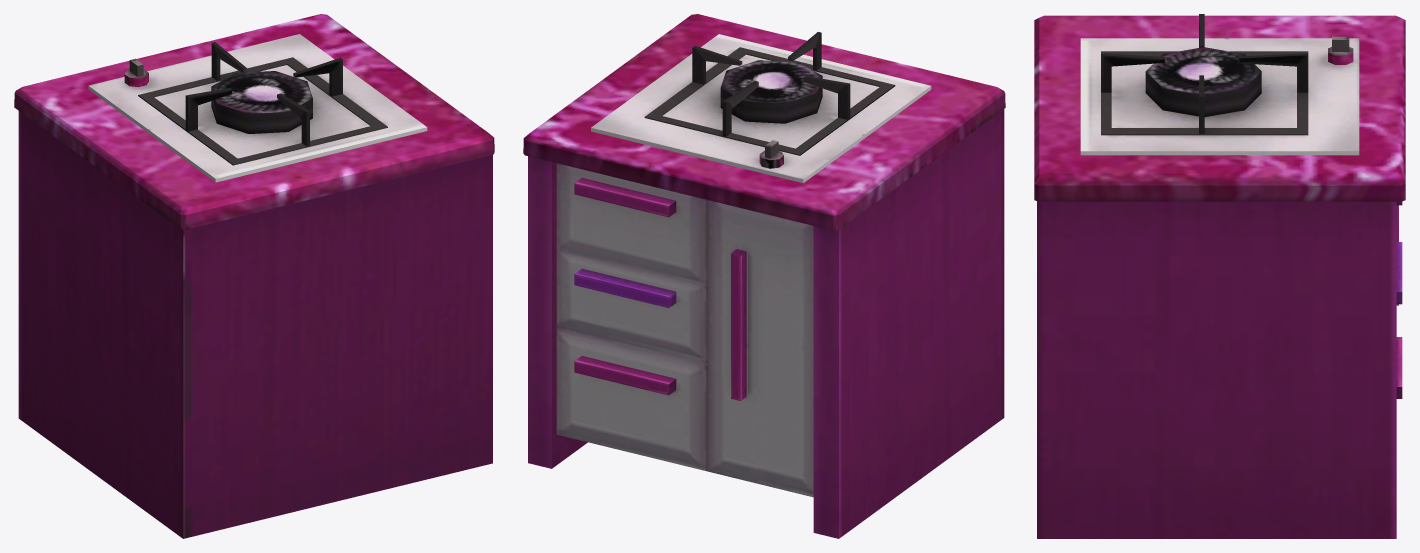
The model's file is furni_0200520_01.FBX.
3 renders of one model, left to right at view 1: azimuth 30°, elevation 25°; view 2: azimuth 150°, elevation 25°; view 3: azimuth 270°, elevation 25°, orthographic. The views are drawn at different scales.
Parts seen in each view (by area): view 1: furni_0200520_01; view 2: furni_0200520_01; view 3: furni_0200520_01.
Boxes of the visible parts, x1,y1,x2,y2 form: furni_0200520_01: (14, 14, 494, 538); furni_0200520_01: (523, 14, 1005, 538); furni_0200520_01: (1034, 14, 1405, 538).
Bounding box in the file's own units: 79.9 × 89.5 × 74.96.
Materials: 1 (1 with a texture image).
